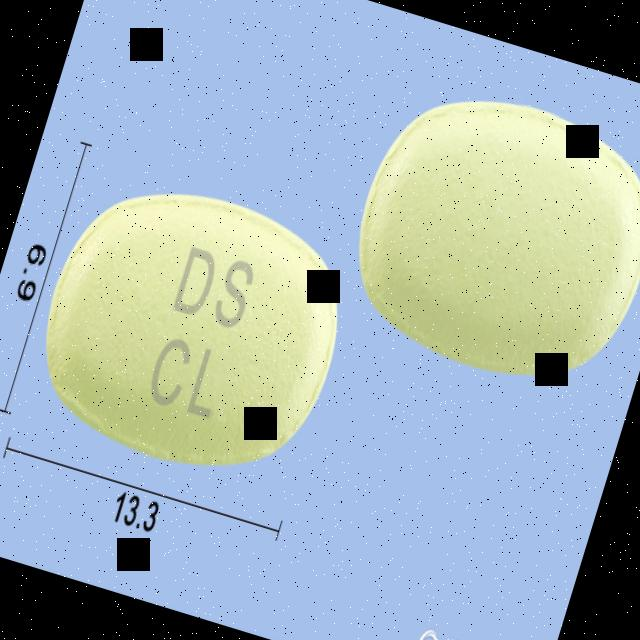Heracin: (16, 156, 368, 498)
